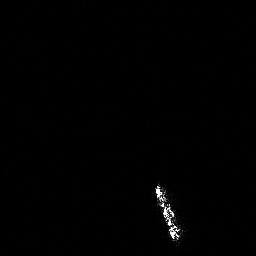ship: (150, 179, 189, 246)
